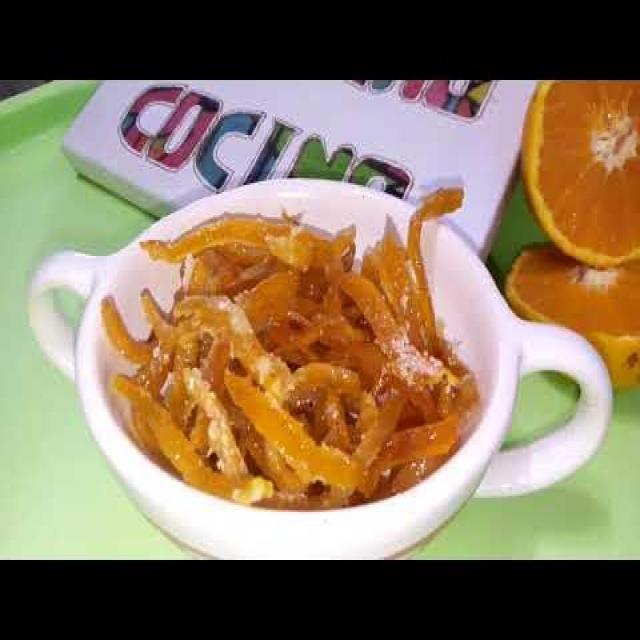Cascara de naranja: (116, 183, 474, 500)
